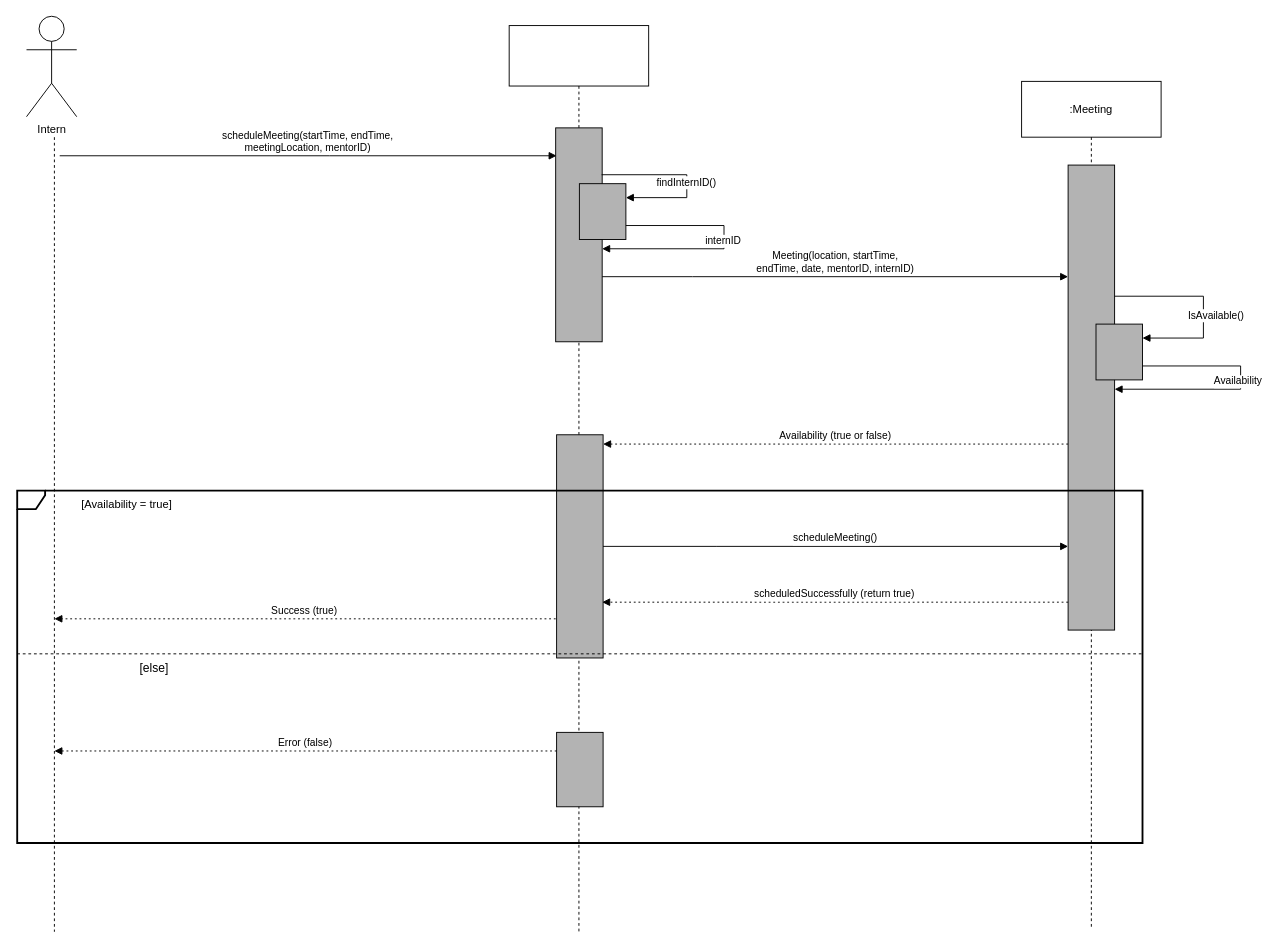
The diagram is 1280 pixels wide and 950 high, and some of its shapes have lost their labels. Each missing label, with the box of its shape:
:Intern: (508, 25, 649, 934)
alt: (16, 489, 1143, 844)
